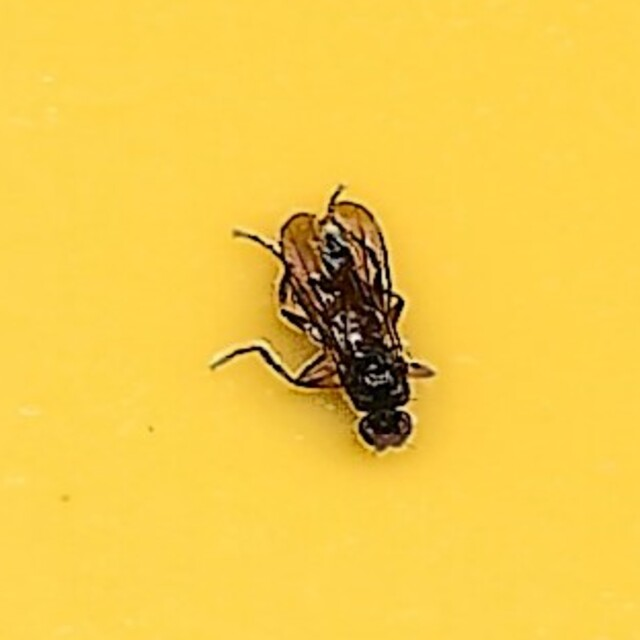Brachycera: (205, 179, 435, 461)
